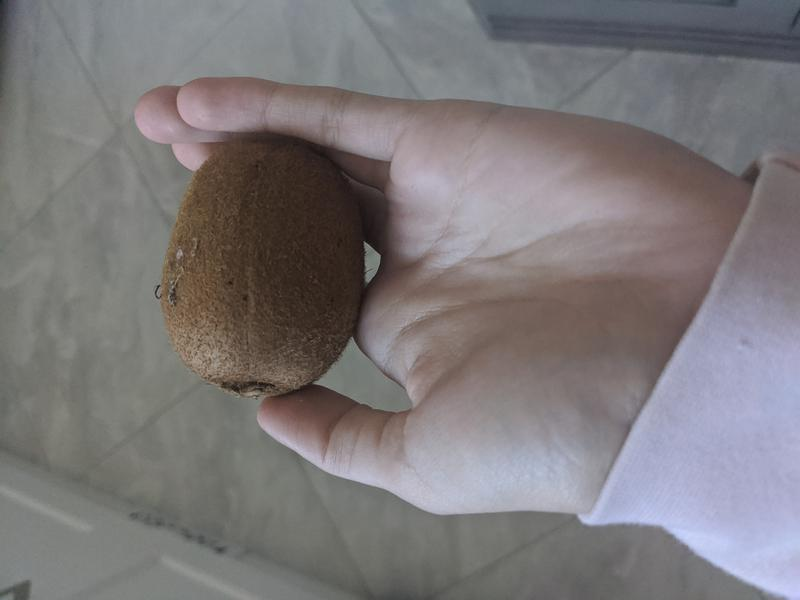kiwi: (158, 136, 367, 401)
